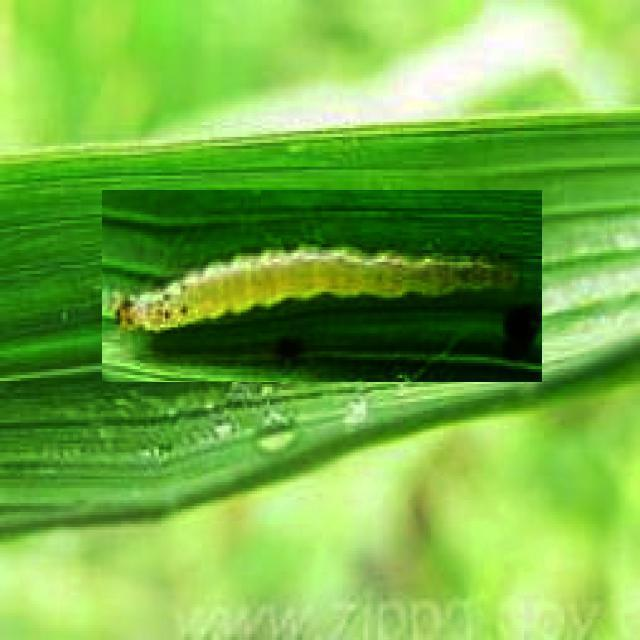leaf-folder: (102, 191, 542, 383)
